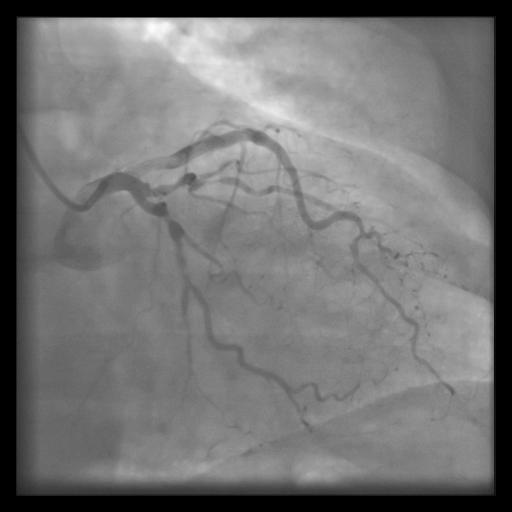Stenosis: (155, 201, 180, 234)
